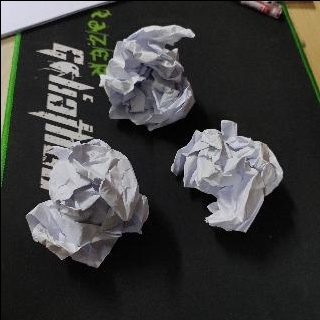8/可回收垃圾/纸: (24, 139, 149, 267), (169, 119, 284, 232), (100, 24, 196, 131)
